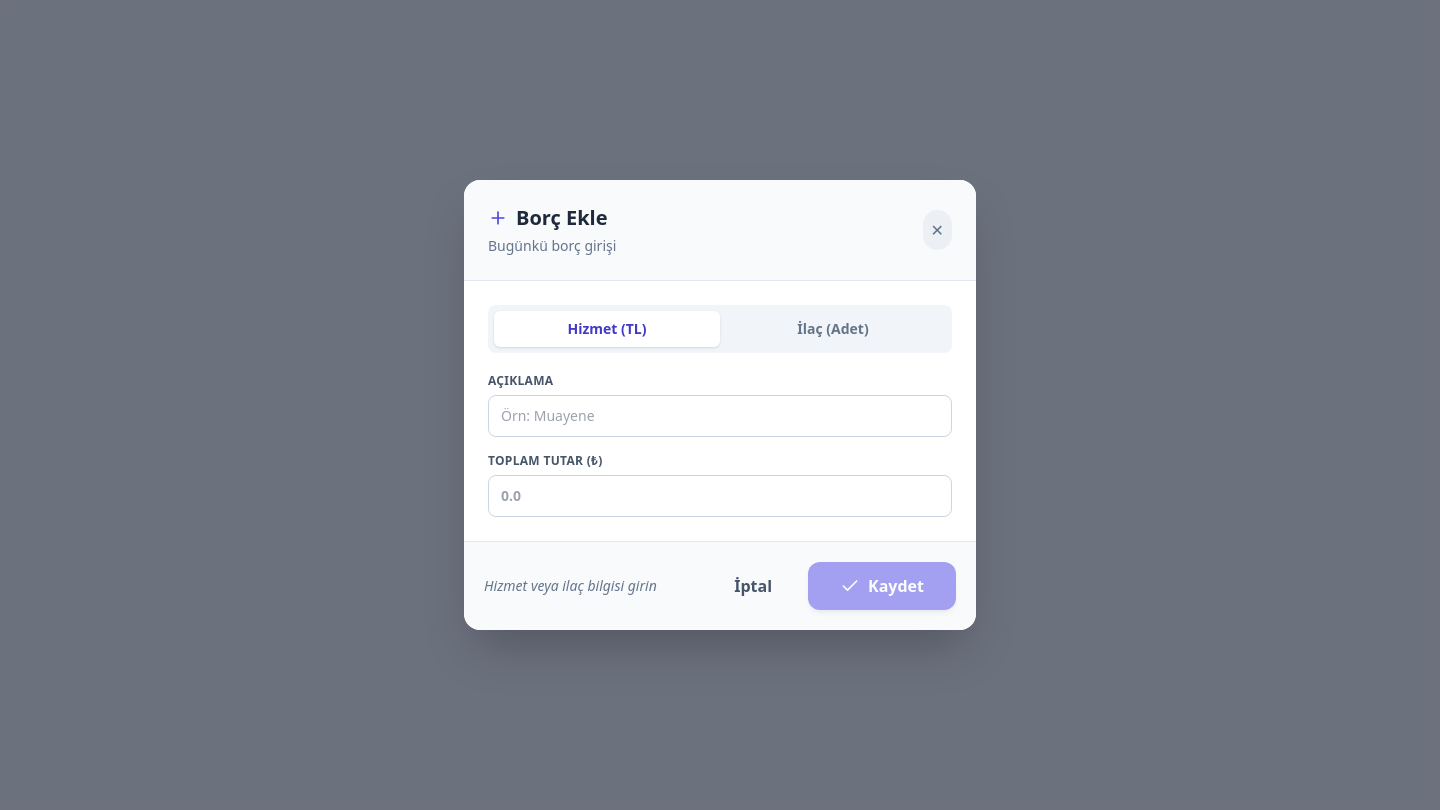
Test case: DebtModal › sekme degistirince iki bolumun ozeti de footer da kalir
The image size is (1440, 810).
Type "Muayene" into the field with placeholder "Örn: Muayene" at [720, 416], box [488, 395, 952, 437]
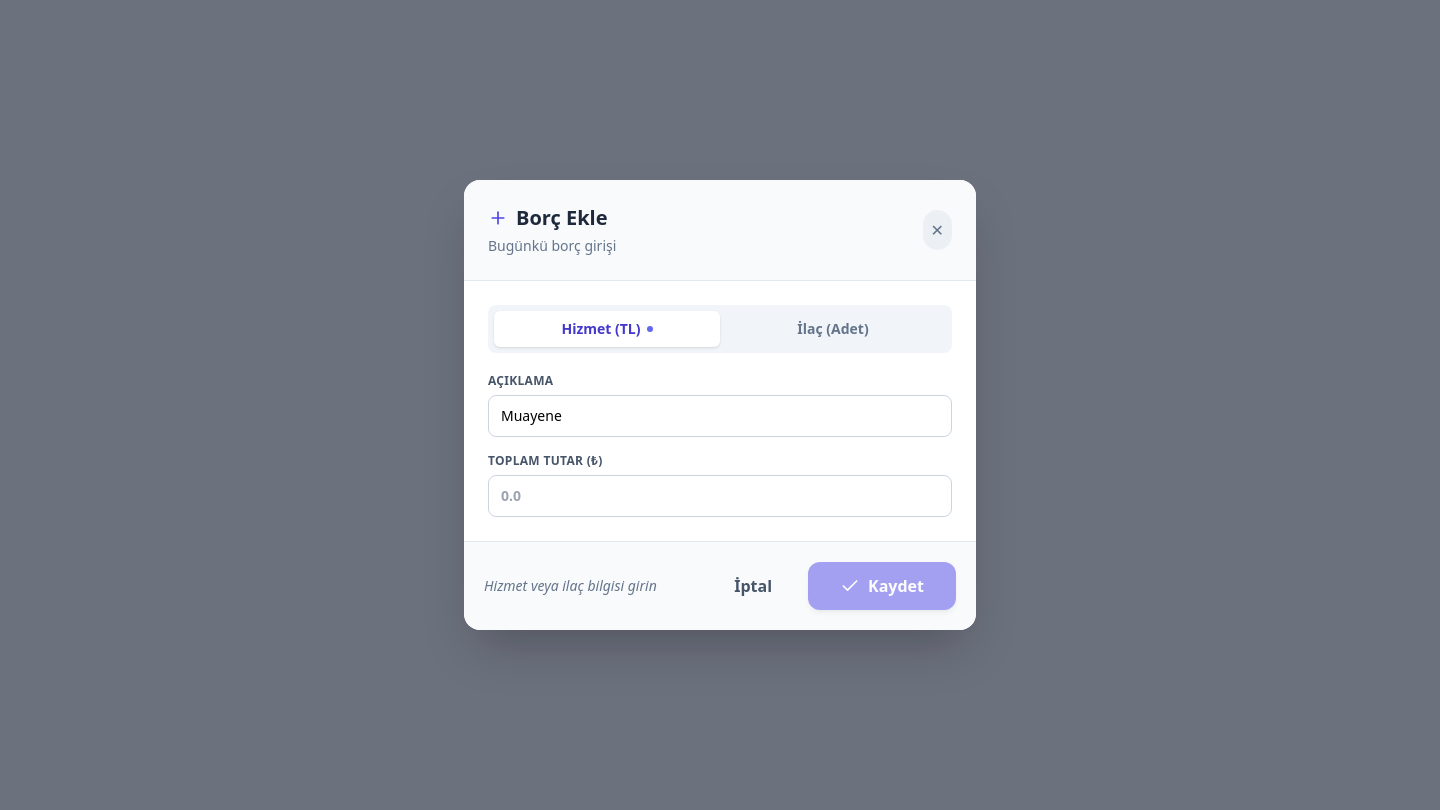
Type "500" into the number field with placeholder "0.0" at [720, 496], box [488, 475, 952, 517]
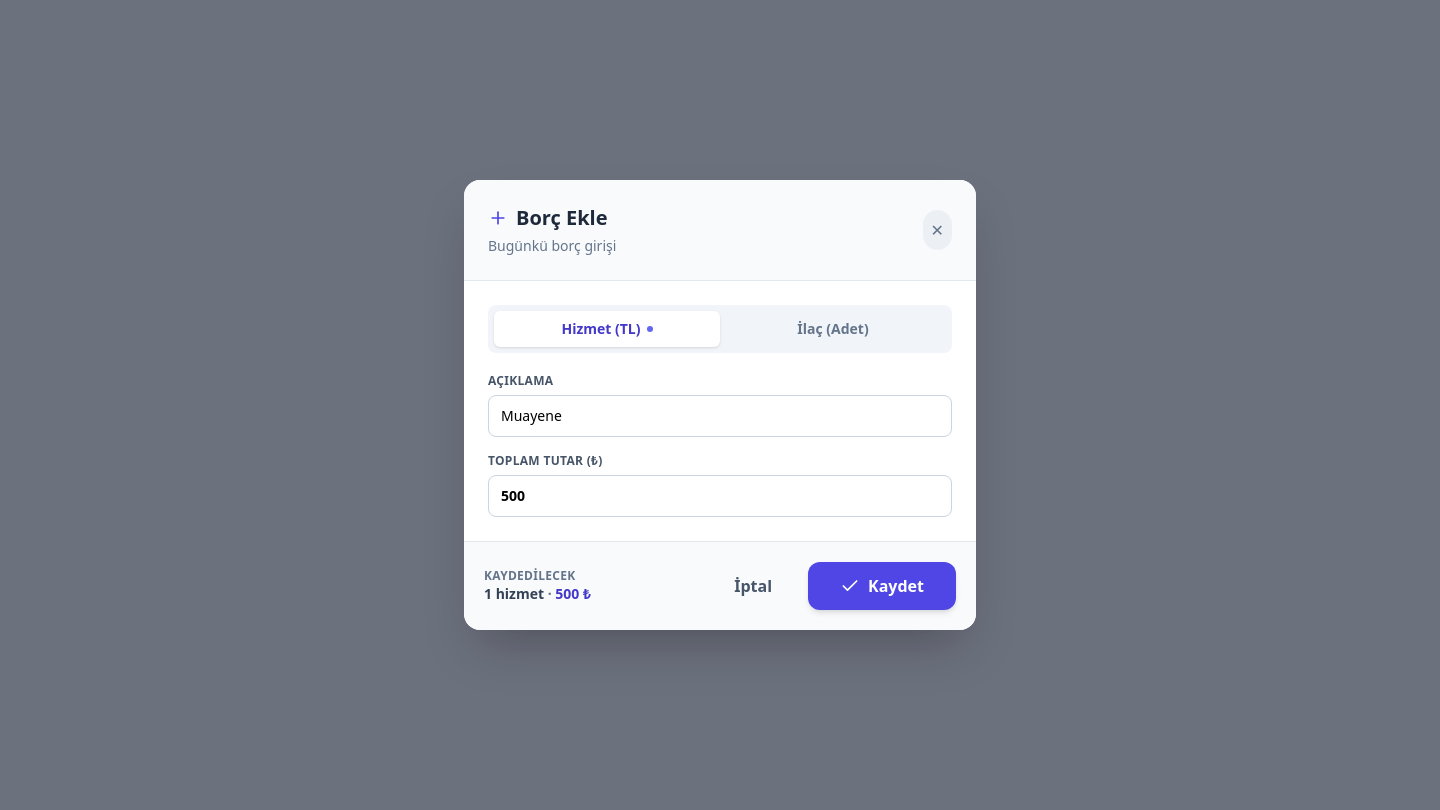
Click the button "İlaç (Adet)" at [833, 329], box [720, 311, 946, 347]
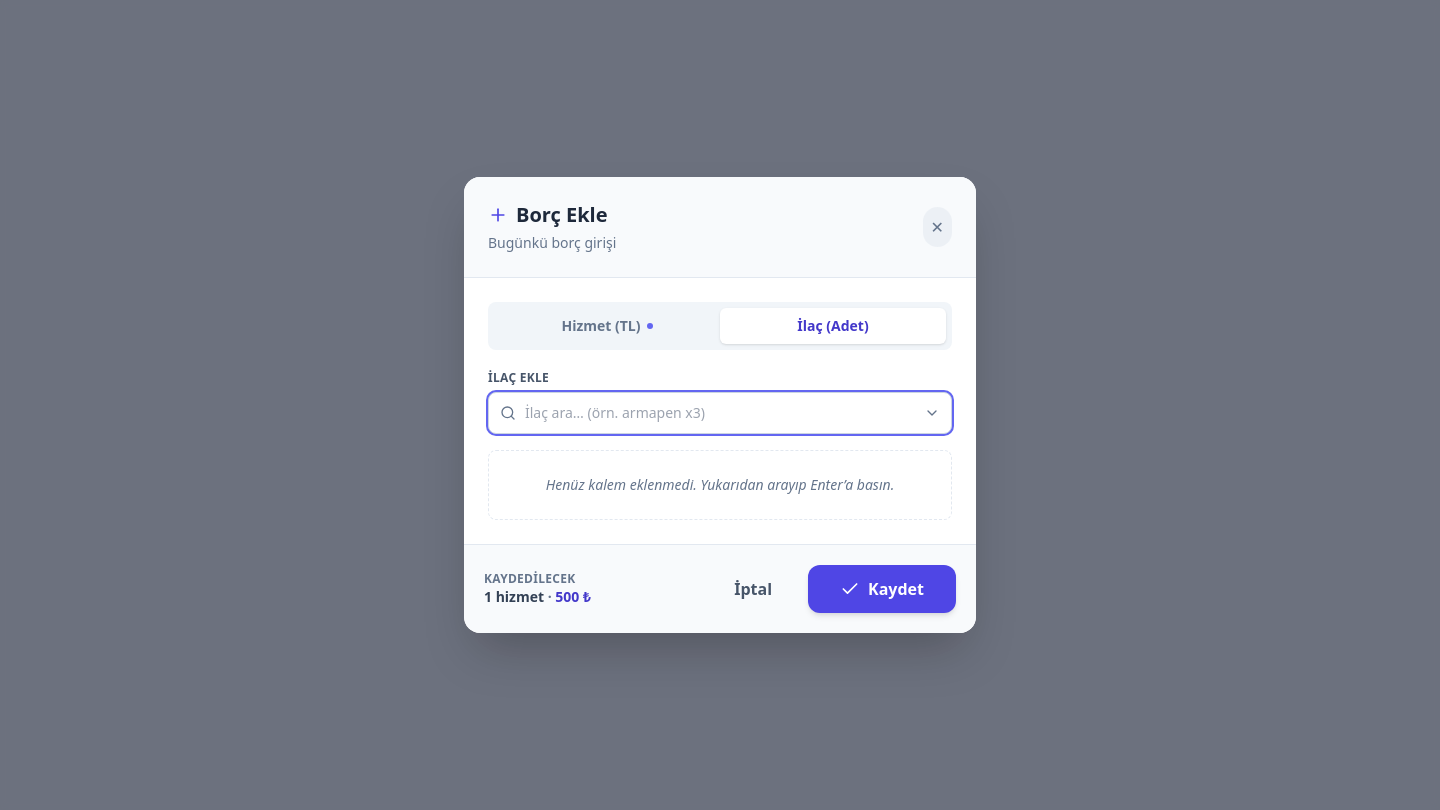
Type "Amoksisilin" into the dropdown at [720, 413], box [488, 392, 952, 434]
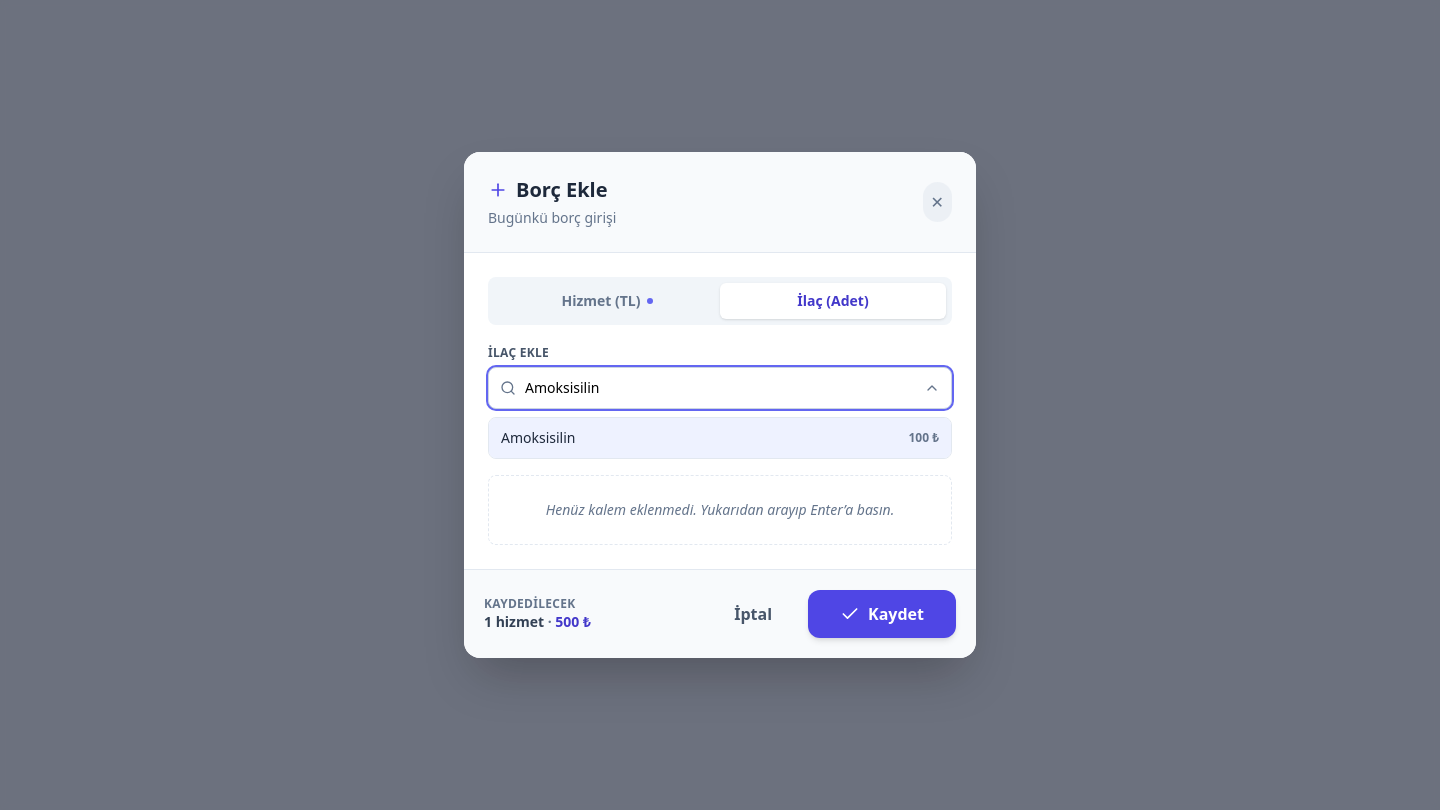
Click the option "Amoksisilin 100 ₺" at [538, 438], box [489, 418, 951, 458]
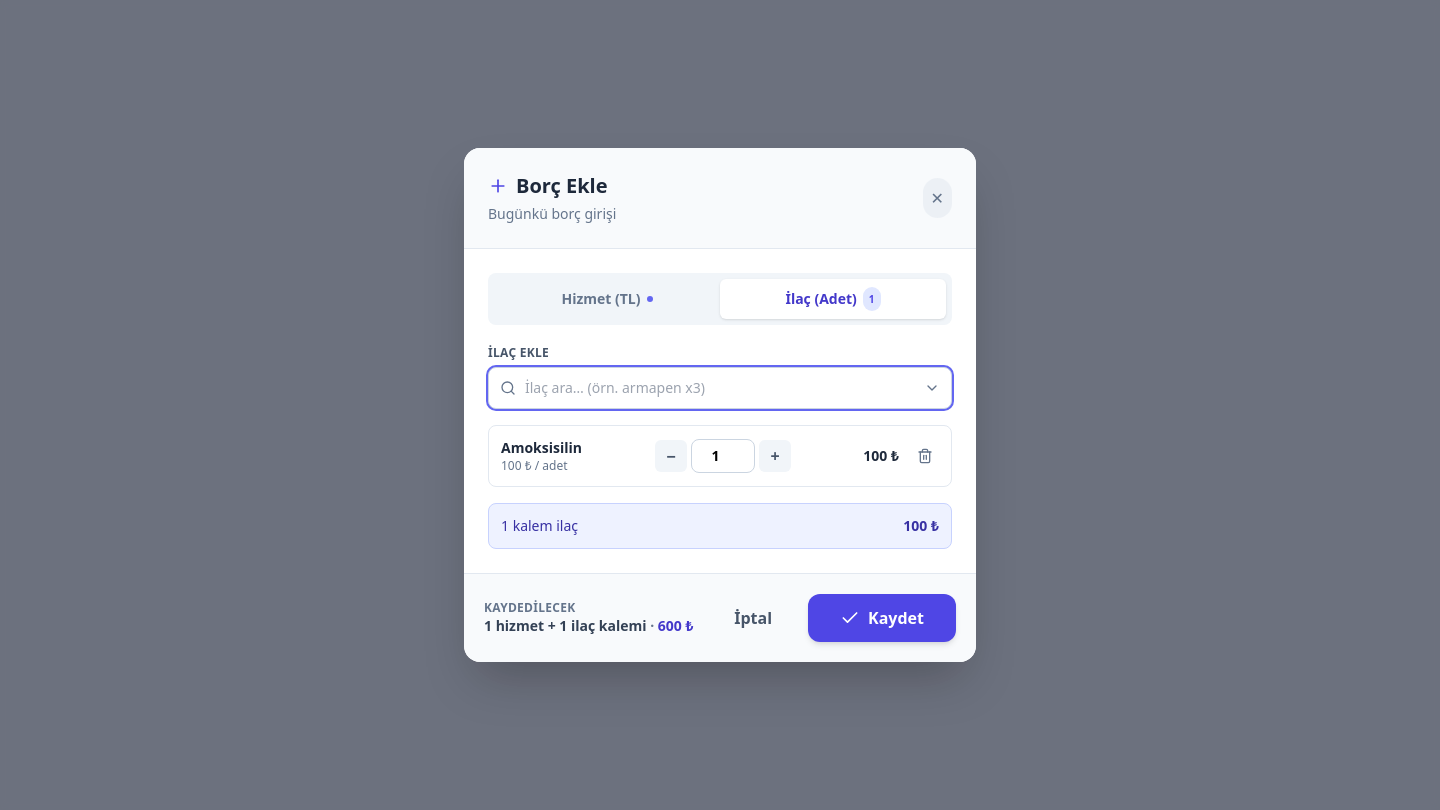
Result: the text "1 hizmet + 1 ilaç kalemi · 600 ₺" is shown at [484, 616, 694, 636]
Result: the text "600 ₺" is shown at [658, 616, 694, 635]
Click the button "Hizmet (TL)" at [607, 299], box [494, 279, 720, 319]
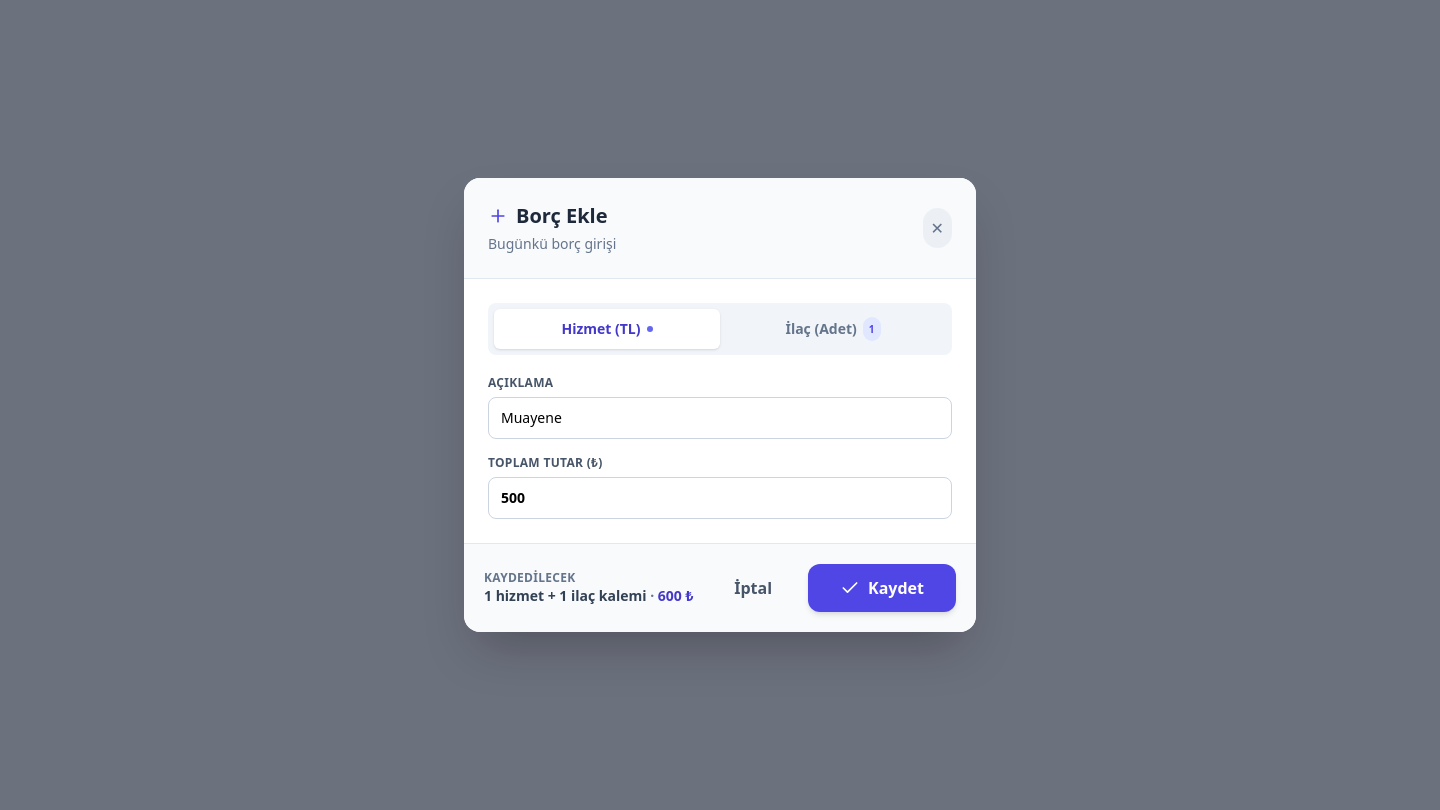
Result: the text "1 hizmet + 1 ilaç kalemi · 600 ₺" is shown at [484, 586, 694, 606]
Result: the field with placeholder "Örn: Muayene" holds "Muayene" at [488, 397, 952, 439]
